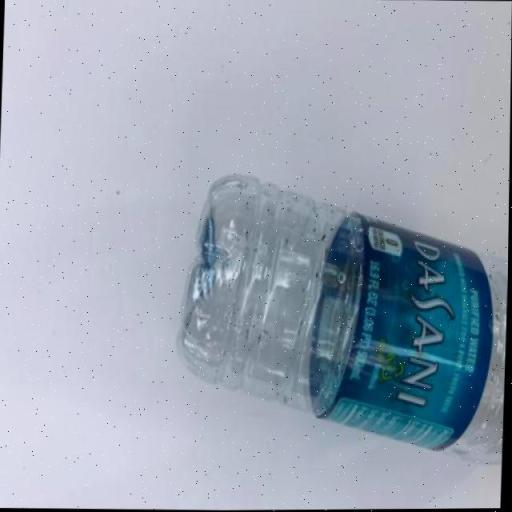plastic: (172, 172, 510, 471)
